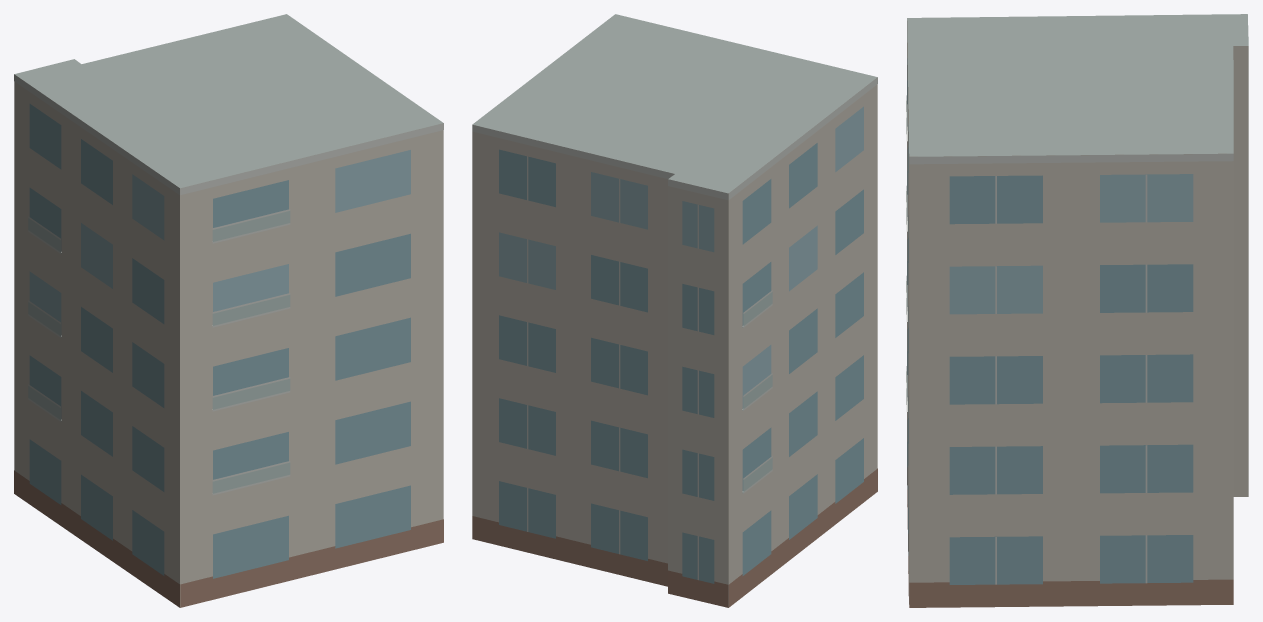
File: survey-upis-32659135.glb
3 views of the same model, side by side, from view 1: azimuth 30°, elevation 25°; view 2: azimuth 150°, elevation 25°; view 3: azimuth 270°, elevation 25° (orthographic). The views are drawn at different scales.
Visible parts, largest first — view 1: survey-upis-32659135.tmp; view 2: survey-upis-32659135.tmp; view 3: survey-upis-32659135.tmp.
Boxes of the visible parts, x1=… form: survey-upis-32659135.tmp: x1=14, y1=14, x2=443, y2=607; survey-upis-32659135.tmp: x1=472, y1=14, x2=877, y2=607; survey-upis-32659135.tmp: x1=906, y1=14, x2=1248, y2=607.
Size of the model in its own units: 9.96 by 14.65 by 10.09.
